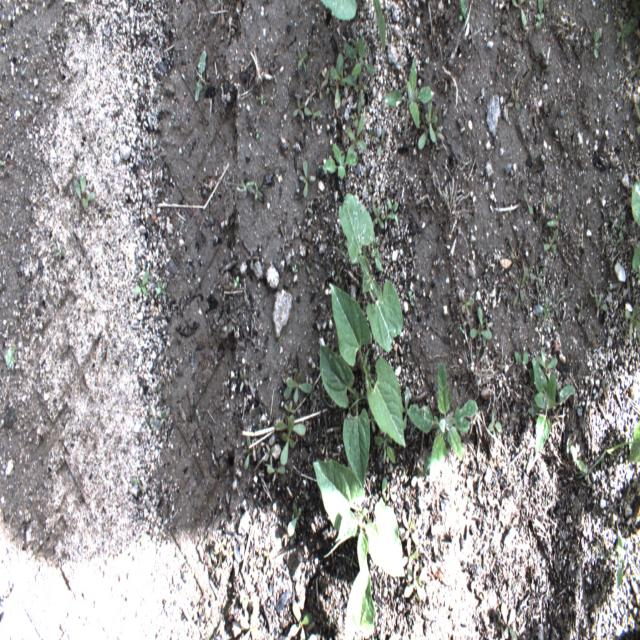crop: (328, 283, 407, 448), (313, 459, 405, 578), (338, 192, 403, 353), (319, 344, 370, 489), (320, 0, 386, 52), (345, 564, 376, 638)
weed: (407, 361, 478, 469), (528, 357, 575, 455), (384, 59, 434, 138), (576, 440, 639, 478), (326, 52, 356, 109), (322, 142, 358, 179), (537, 286, 567, 330), (344, 36, 376, 76), (395, 386, 421, 432), (344, 112, 368, 160), (630, 178, 640, 284), (283, 367, 312, 403), (290, 596, 314, 639), (398, 533, 419, 582), (417, 103, 439, 149), (470, 306, 493, 346), (374, 424, 396, 465), (403, 566, 427, 602), (537, 345, 557, 386), (514, 349, 537, 383), (280, 415, 295, 466), (401, 508, 420, 547), (410, 459, 431, 494), (74, 174, 95, 208), (298, 160, 316, 199), (500, 600, 518, 639), (425, 93, 438, 143), (194, 50, 206, 102), (624, 306, 640, 342), (570, 444, 589, 474), (512, 268, 527, 306), (616, 527, 625, 589), (628, 419, 640, 465), (353, 70, 368, 106), (243, 430, 256, 471), (364, 404, 381, 434), (617, 16, 631, 52), (286, 507, 302, 538), (303, 105, 321, 132), (528, 262, 546, 289), (274, 421, 306, 436), (132, 270, 149, 298), (511, 0, 530, 25), (351, 100, 367, 129), (543, 224, 559, 252), (626, 0, 639, 34), (374, 126, 387, 158), (615, 210, 627, 244), (381, 202, 395, 231), (378, 474, 388, 514), (157, 405, 171, 432), (487, 407, 502, 432), (266, 464, 286, 482), (507, 87, 521, 112), (284, 398, 296, 427), (292, 97, 306, 121), (596, 290, 608, 318), (372, 203, 384, 230), (297, 620, 316, 637), (546, 210, 562, 230), (238, 367, 250, 393), (370, 246, 382, 272), (461, 292, 475, 314), (534, 0, 544, 29), (334, 242, 350, 260), (432, 116, 444, 140), (304, 82, 318, 102), (598, 378, 612, 398), (316, 77, 328, 100), (467, 23, 479, 46), (246, 248, 258, 270), (264, 442, 276, 464), (325, 75, 337, 97), (262, 545, 273, 569), (592, 30, 601, 59), (297, 46, 307, 72), (523, 192, 534, 215), (236, 178, 254, 192), (409, 296, 421, 317), (387, 198, 398, 220), (213, 546, 225, 566), (352, 38, 367, 54), (132, 475, 144, 494), (420, 110, 429, 135), (249, 184, 263, 200), (55, 242, 66, 262), (575, 298, 584, 322), (523, 261, 534, 280), (334, 264, 344, 284), (49, 234, 60, 252), (307, 382, 318, 400), (629, 62, 640, 80), (214, 537, 227, 552), (565, 438, 573, 461), (345, 554, 358, 568), (303, 200, 314, 216), (305, 263, 313, 285), (610, 84, 621, 100), (156, 280, 168, 294), (584, 462, 591, 485), (589, 288, 599, 304), (530, 176, 540, 192), (485, 317, 494, 334), (635, 105, 640, 134), (364, 178, 373, 194), (613, 285, 623, 299), (460, 0, 467, 20), (430, 143, 438, 160), (460, 160, 471, 170), (290, 528, 296, 546), (458, 6, 465, 21), (195, 407, 201, 424), (288, 369, 296, 381), (478, 316, 486, 328), (458, 323, 465, 335), (291, 502, 295, 520), (292, 263, 298, 274), (408, 290, 414, 301), (234, 275, 239, 288), (371, 129, 376, 142), (258, 94, 263, 106), (209, 502, 213, 516), (255, 127, 259, 140), (235, 369, 238, 378), (262, 184, 267, 188), (568, 553, 570, 562)
